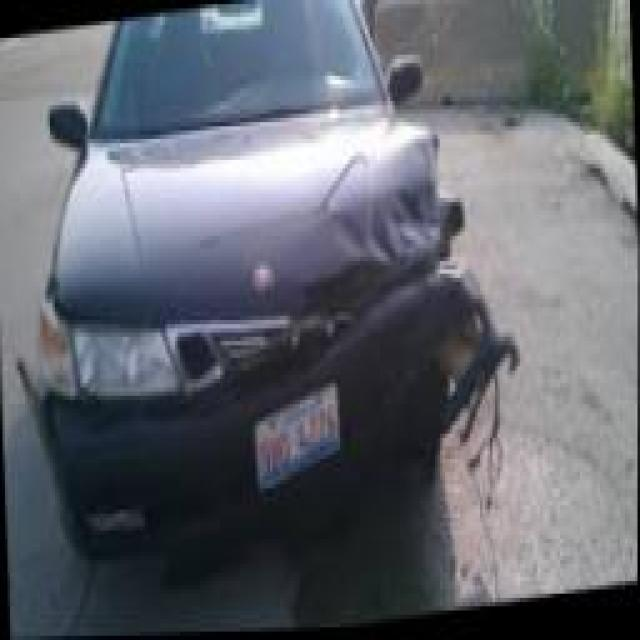Bonnet: (352, 113, 446, 303)
Bumper: (20, 263, 512, 570)
Light: (379, 232, 452, 348)
